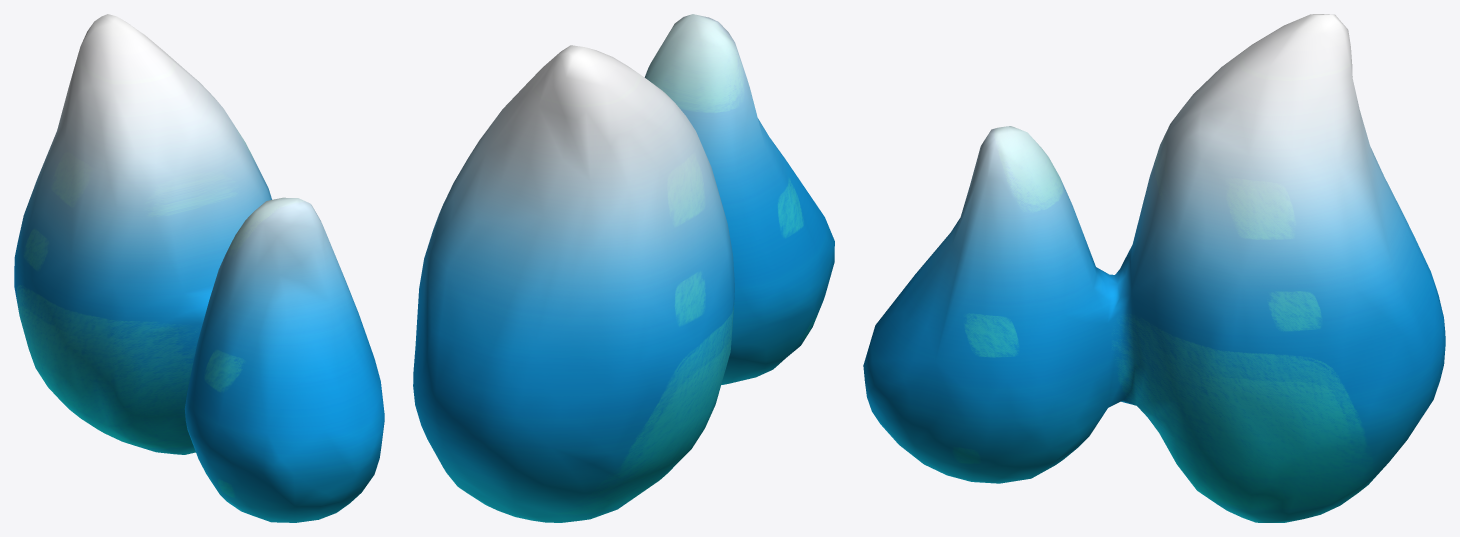
Rendered from plant_ame_1_3.fbx.
3 views of the same model, side by side, from view 1: azimuth 30°, elevation 25°; view 2: azimuth 150°, elevation 25°; view 3: azimuth 270°, elevation 25° (orthographic). The views are drawn at different scales.
Parts seen in each view (by area): view 1: polySurface1; view 2: polySurface1; view 3: polySurface1.
Boxes of the visible parts, x1,y1,x2,y2 form: polySurface1: (14,14,384,522); polySurface1: (413,14,834,522); polySurface1: (863,14,1445,522).
Bounding box in the file's own units: 2.37 × 4.13 × 4.62.
1 material, 1 textured.
